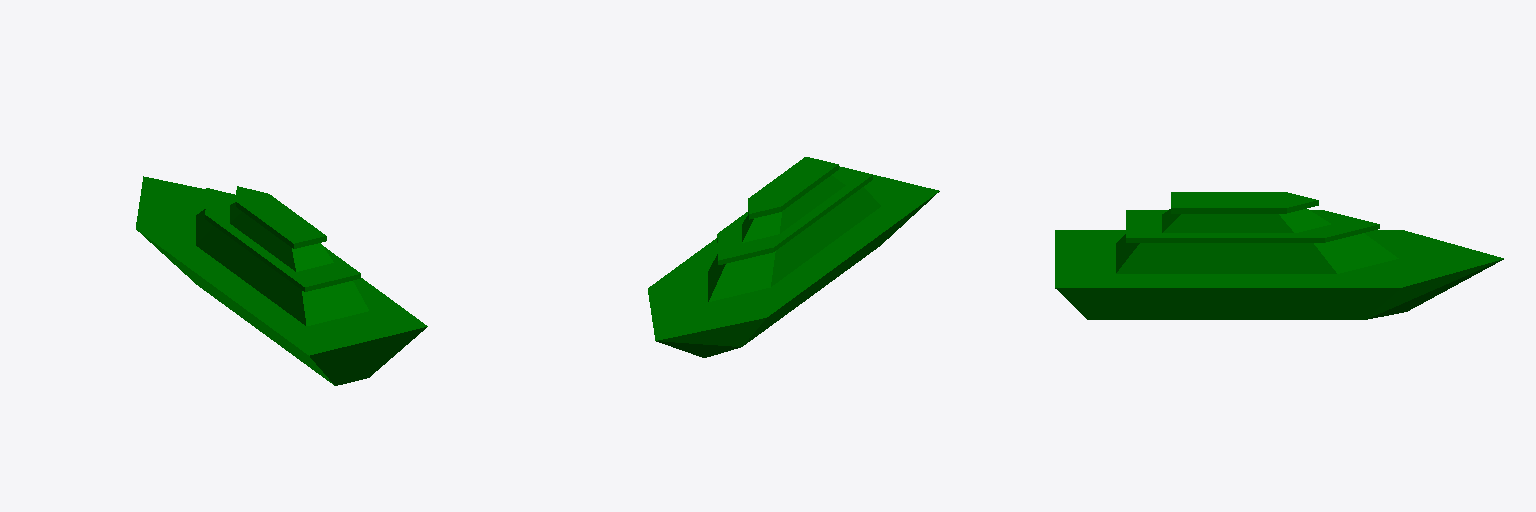
File: SimpleSailingBoat.obj
3 views of the same model, side by side, from view 1: azimuth 30°, elevation 25°; view 2: azimuth 150°, elevation 25°; view 3: azimuth 270°, elevation 25° (orthographic).
Visible parts, largest first — view 1: Plane.001; view 2: Plane.001; view 3: Plane.001.
Part boxes in pixels (bbox=[...]): Plane.001: bbox=[136, 176, 427, 385]; Plane.001: bbox=[648, 157, 939, 357]; Plane.001: bbox=[1055, 192, 1503, 319].
Size of the model in its own units: 0.994 by 0.8887 by 3.25.